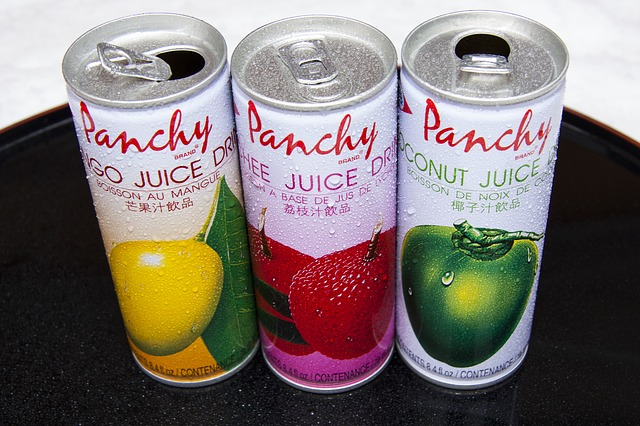can: (51, 5, 257, 391), (230, 10, 402, 396), (395, 3, 561, 398)
